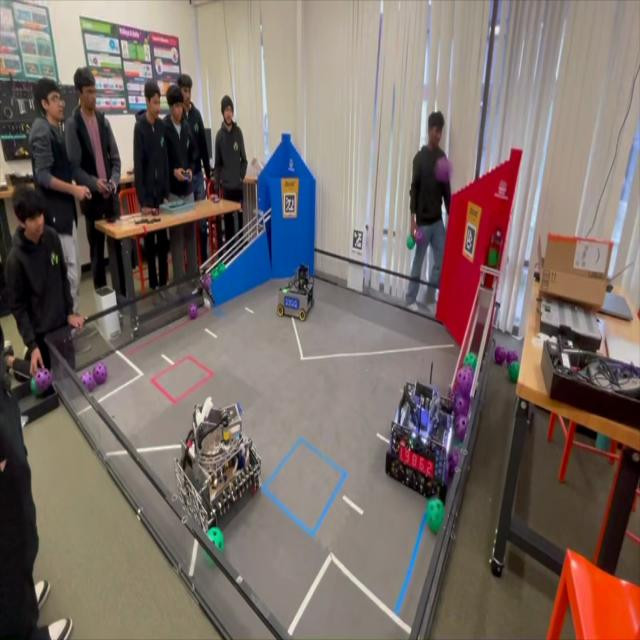artifact_green: (427, 498, 443, 534), (434, 157, 452, 182), (208, 527, 224, 551), (207, 528, 223, 551), (81, 371, 95, 392), (596, 434, 610, 452), (464, 352, 477, 371), (202, 549, 215, 567), (508, 362, 519, 383), (488, 249, 499, 268), (212, 263, 225, 279), (506, 350, 518, 365), (30, 377, 39, 396), (202, 273, 211, 289), (189, 304, 198, 319), (407, 235, 415, 250), (211, 265, 219, 279), (208, 280, 213, 297), (211, 268, 217, 281), (216, 263, 222, 273), (220, 263, 225, 273), (457, 441, 463, 448)
artifact_purple: (456, 367, 473, 395), (447, 446, 461, 478), (435, 158, 452, 182), (35, 368, 51, 392), (454, 393, 469, 416), (93, 362, 107, 384), (455, 416, 467, 441), (81, 372, 95, 392), (494, 345, 506, 365), (188, 303, 198, 320), (506, 351, 518, 365), (203, 274, 211, 290), (415, 230, 423, 243), (212, 195, 219, 203)
